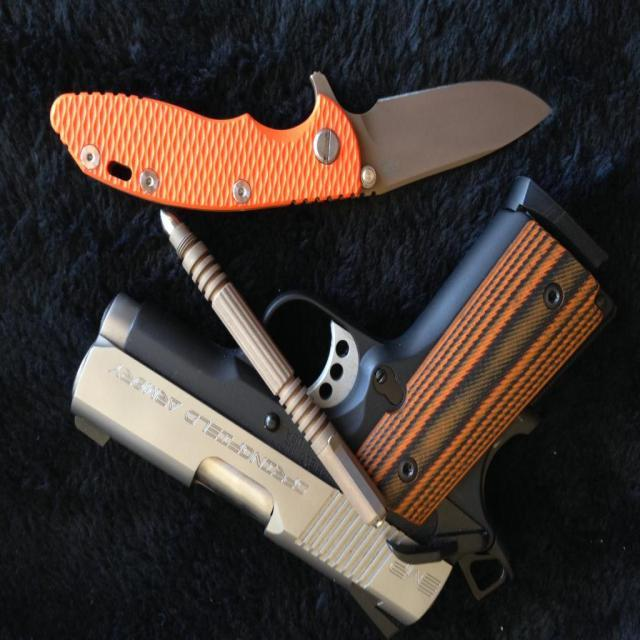Gun: (71, 178, 612, 631)
Knife: (50, 72, 550, 211)
